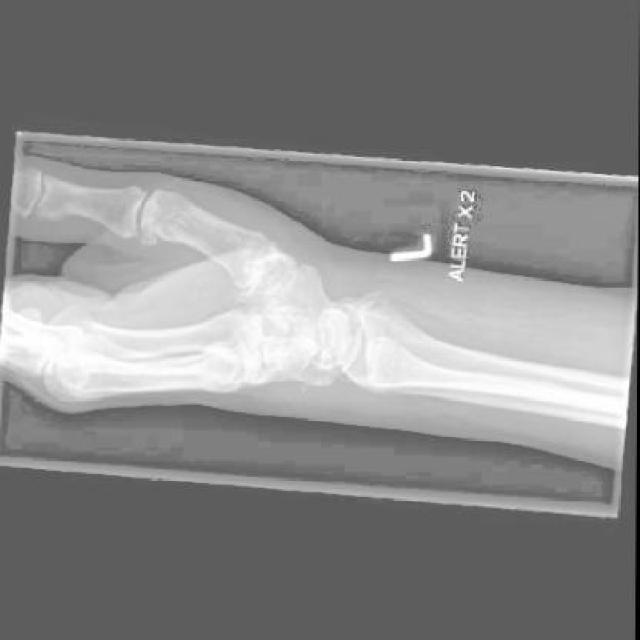Fracture: (292, 340, 353, 400)
